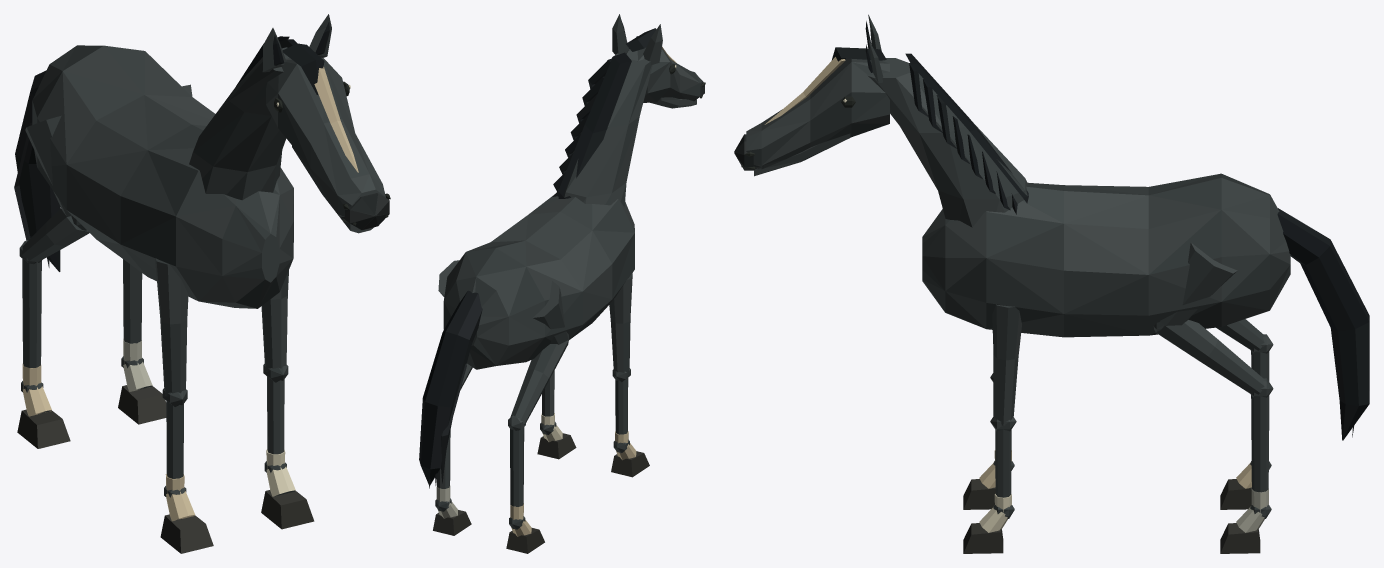
Rendered from horses-low-poly.glb.
The picture shows the model from 3 angles, left to right: view 1: azimuth 30°, elevation 25°; view 2: azimuth 150°, elevation 25°; view 3: azimuth 270°, elevation 25°; orthographic projection. The views are drawn at different scales.
Visible parts, largest first — view 1: low_poly_Charcoal_Body, low_poly_Charcoal_Head, low_poly_Charcoal_Neck, low_poly_Charcoal_Tail, low_poly_Charcoal_LegFL_Forearm, low_poly_Charcoal_LegBL_Lower, low_poly_Charcoal_LegBR_Hoof, low_poly_Charcoal_LegFR_Forearm, low_poly_Charcoal_LegBL_Gaskin, low_poly_Charcoal_LegBR_Lower, low_poly_Charcoal_LegFR_Hoof, low_poly_Charcoal_LegFL_Lower (+8 smaller); view 2: low_poly_Charcoal_Body, low_poly_Charcoal_Neck, low_poly_Charcoal_Tail, low_poly_Charcoal_Head, low_poly_Charcoal_LegBL_Gaskin, low_poly_Charcoal_LegFL_Forearm, low_poly_Charcoal_LegBL_Lower, low_poly_Charcoal_LegBL_Thigh, low_poly_Charcoal_LegBR_Hoof, low_poly_Charcoal_LegFL_Lower, low_poly_Charcoal_LegBL_Hoof, low_poly_Charcoal_LegFR_Hoof (+4 smaller); view 3: low_poly_Charcoal_Body, low_poly_Charcoal_Neck, low_poly_Charcoal_Head, low_poly_Charcoal_Tail, low_poly_Charcoal_LegBR_Gaskin, low_poly_Charcoal_LegFR_Forearm, low_poly_Charcoal_LegBR_Lower, low_poly_Charcoal_LegBR_Thigh, low_poly_Charcoal_LegBR_Hoof, low_poly_Charcoal_LegFR_Lower, low_poly_Charcoal_LegFR_Hoof, low_poly_Charcoal_LegFL_Hoof (+3 smaller).
Part boxes in pixels (x1=…): low_poly_Charcoal_Body: x1=32, y1=45, x2=293, y2=308; low_poly_Charcoal_Head: x1=262, y1=14, x2=390, y2=229; low_poly_Charcoal_Neck: x1=189, y1=36, x2=297, y2=200; low_poly_Charcoal_Tail: x1=14, y1=70, x2=60, y2=271; low_poly_Charcoal_LegFL_Forearm: x1=155, y1=258, x2=188, y2=396; low_poly_Charcoal_LegBL_Lower: x1=19, y1=240, x2=41, y2=368; low_poly_Charcoal_LegBR_Hoof: x1=118, y1=356, x2=166, y2=424; low_poly_Charcoal_LegFR_Forearm: x1=261, y1=270, x2=288, y2=372; low_poly_Charcoal_LegBL_Gaskin: x1=22, y1=208, x2=89, y2=262; low_poly_Charcoal_LegBR_Lower: x1=123, y1=259, x2=142, y2=364; low_poly_Charcoal_LegFR_Hoof: x1=261, y1=461, x2=314, y2=529; low_poly_Charcoal_LegFL_Lower: x1=162, y1=388, x2=187, y2=478; low_poly_Charcoal_Body: x1=443, y1=194, x2=634, y2=369; low_poly_Charcoal_Neck: x1=552, y1=52, x2=652, y2=206; low_poly_Charcoal_Tail: x1=419, y1=290, x2=482, y2=488; low_poly_Charcoal_Head: x1=612, y1=14, x2=705, y2=102; low_poly_Charcoal_LegBL_Gaskin: x1=510, y1=336, x2=568, y2=424; low_poly_Charcoal_LegFL_Forearm: x1=609, y1=273, x2=632, y2=374; low_poly_Charcoal_LegBL_Lower: x1=508, y1=415, x2=525, y2=506; low_poly_Charcoal_LegBL_Thigh: x1=533, y1=281, x2=568, y2=344; low_poly_Charcoal_LegBR_Hoof: x1=433, y1=498, x2=471, y2=535; low_poly_Charcoal_LegFL_Lower: x1=612, y1=368, x2=630, y2=434; low_poly_Charcoal_LegBL_Hoof: x1=506, y1=516, x2=544, y2=553; low_poly_Charcoal_LegFR_Hoof: x1=537, y1=422, x2=576, y2=459; low_poly_Charcoal_Body: x1=922, y1=173, x2=1290, y2=337; low_poly_Charcoal_Neck: x1=868, y1=53, x2=1028, y2=227; low_poly_Charcoal_Head: x1=734, y1=14, x2=889, y2=170; low_poly_Charcoal_Tail: x1=1277, y1=208, x2=1369, y2=440; low_poly_Charcoal_LegBR_Gaskin: x1=1153, y1=320, x2=1264, y2=394; low_poly_Charcoal_LegFR_Forearm: x1=992, y1=304, x2=1021, y2=425; low_poly_Charcoal_LegBR_Lower: x1=1250, y1=378, x2=1273, y2=512; low_poly_Charcoal_LegBR_Thigh: x1=1160, y1=242, x2=1237, y2=325; low_poly_Charcoal_LegBR_Hoof: x1=1220, y1=505, x2=1271, y2=553; low_poly_Charcoal_LegFR_Lower: x1=990, y1=417, x2=1016, y2=497; low_poly_Charcoal_LegFR_Hoof: x1=963, y1=505, x2=1014, y2=553; low_poly_Charcoal_LegFL_Hoof: x1=963, y1=461, x2=1014, y2=509.
Size of the model in its own units: 0.696 by 2.27 by 2.62.
